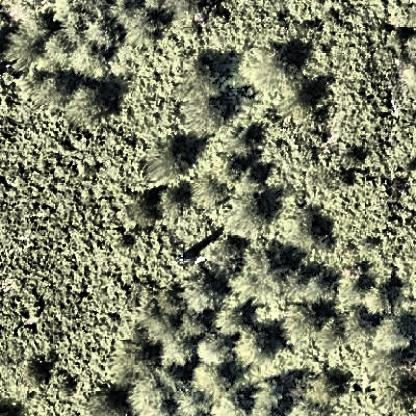tree-top: (271, 193, 324, 252), (240, 40, 294, 92), (217, 190, 269, 240), (64, 82, 115, 132), (3, 350, 50, 404), (145, 138, 192, 187), (228, 84, 276, 130), (187, 137, 236, 181), (284, 266, 336, 306), (123, 373, 171, 416), (295, 367, 341, 411), (38, 69, 80, 114), (198, 235, 243, 275), (183, 92, 219, 142), (178, 54, 216, 101), (294, 41, 335, 83), (114, 190, 157, 230), (2, 25, 42, 68), (175, 278, 219, 317), (371, 315, 414, 353), (281, 305, 319, 348), (80, 381, 125, 416), (210, 297, 249, 337), (193, 357, 231, 396), (123, 9, 160, 49), (197, 331, 235, 369), (246, 379, 285, 416), (232, 326, 269, 364), (361, 279, 396, 317), (19, 7, 54, 44), (161, 333, 197, 368), (151, 186, 186, 222), (379, 368, 413, 403), (43, 33, 77, 68), (143, 314, 175, 351), (90, 15, 122, 51), (316, 319, 348, 354)
